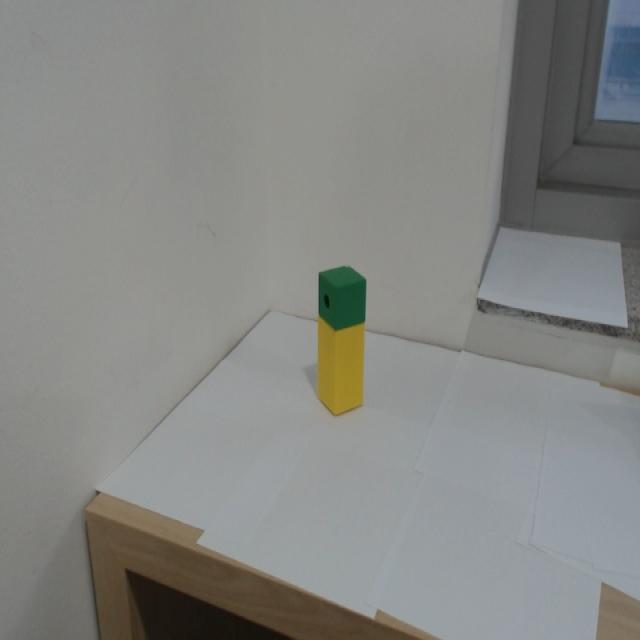cube: (314, 262, 371, 334)
